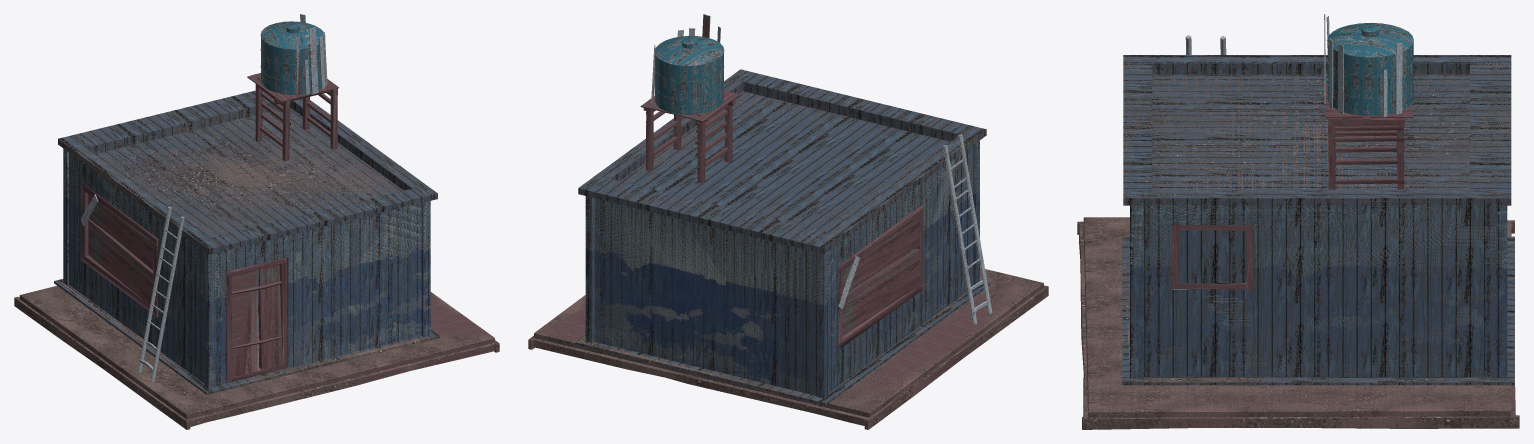
Rendered from urban.fbx.
3 renders of one model, left to right at view 1: azimuth 30°, elevation 25°; view 2: azimuth 150°, elevation 25°; view 3: azimuth 270°, elevation 25°, orthographic. The views are drawn at different scales.
Parts seen in each view (by area): view 1: Model; view 2: Model; view 3: Model.
Part boxes in pixels (box(x1,y1,x2,y2)): Model: box(14, 14, 499, 429); Model: box(528, 14, 1048, 429); Model: box(1077, 14, 1519, 429).
Size of the model in its own units: 166 by 139 by 156.
